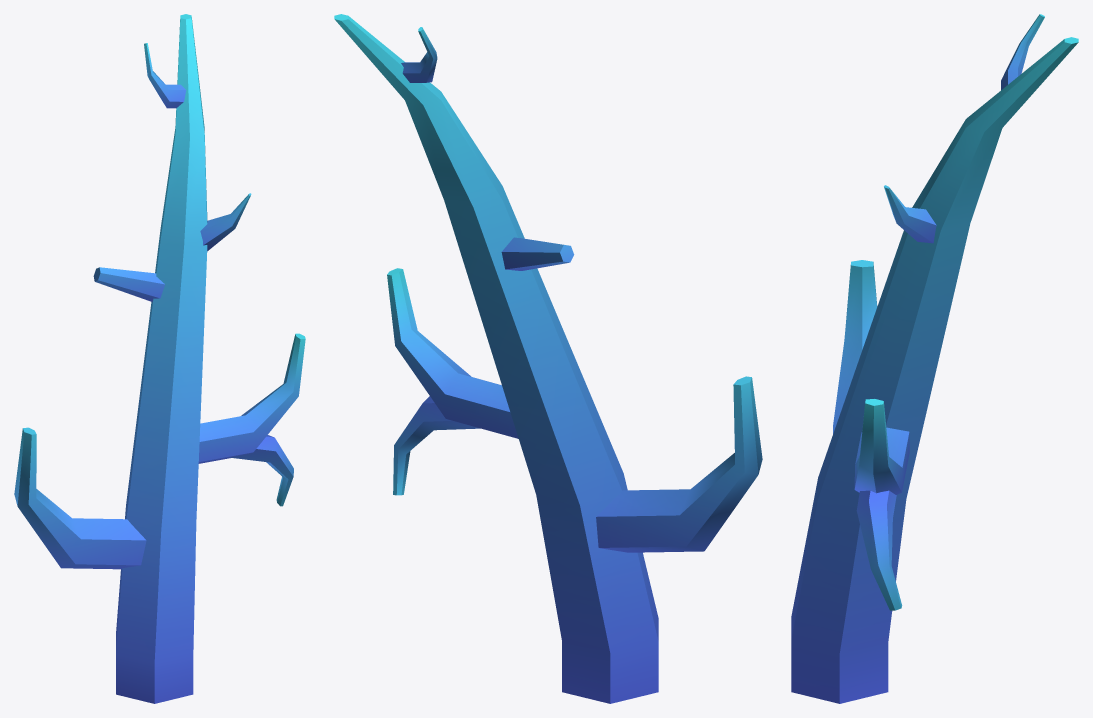
File: CoralReef_07.fbx
3 renders of one model, left to right at view 1: azimuth 30°, elevation 25°; view 2: azimuth 150°, elevation 25°; view 3: azimuth 270°, elevation 25°, orthographic. The views are drawn at different scales.
Parts seen in each view (by area): view 1: pPrism8; view 2: pPrism8; view 3: pPrism8.
Boxes of the visible parts, x1,y1,x2,y2 form: pPrism8: (14, 14, 305, 703); pPrism8: (334, 14, 762, 703); pPrism8: (791, 14, 1078, 703).
Bounding box in the file's own units: 80.26 × 150 × 54.57.
1 material, 1 textured.
